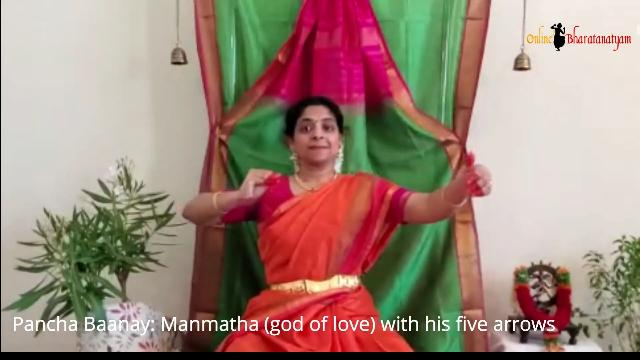mukul: (224, 150, 298, 218)
